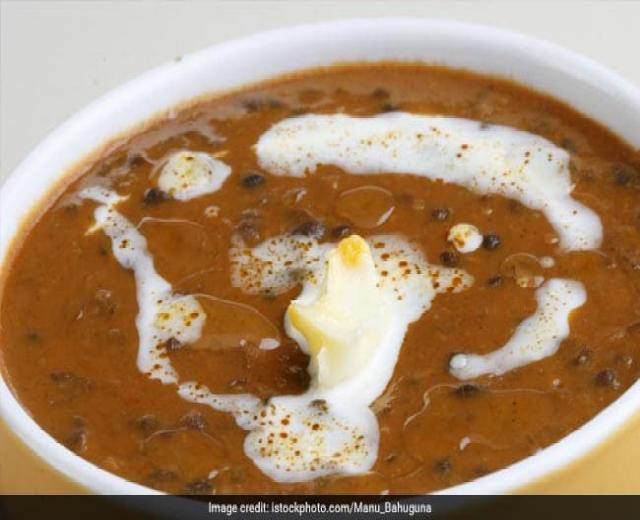dal makhni: (0, 13, 631, 506)
